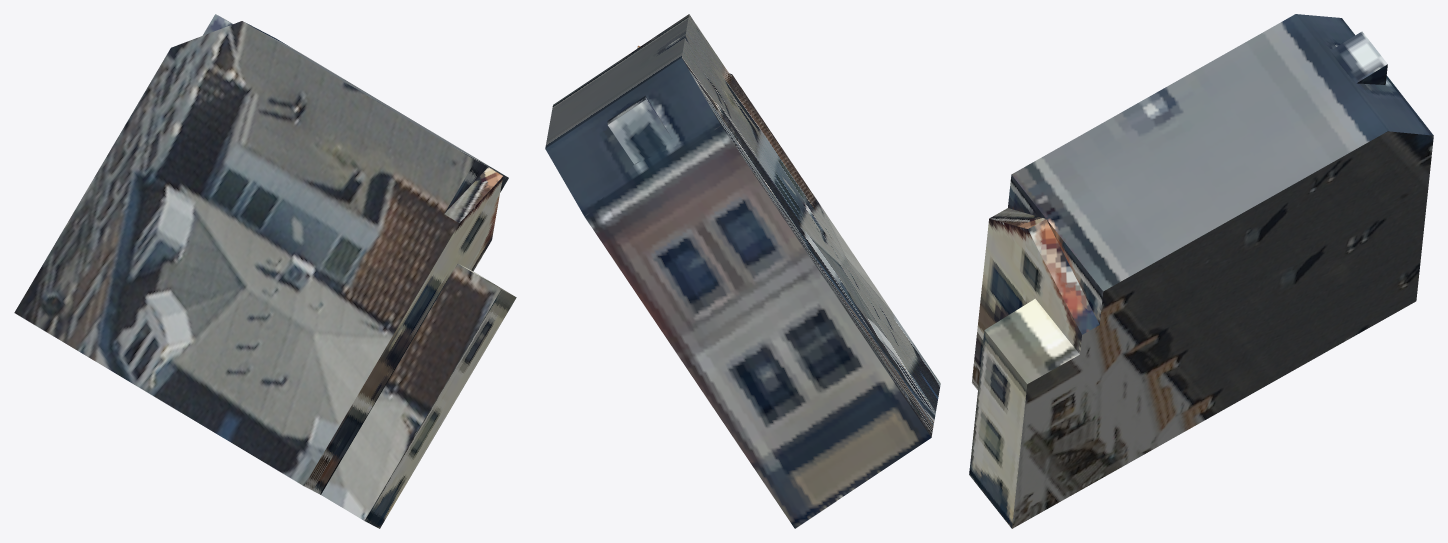
3 renders of one model, left to right at view 1: azimuth 30°, elevation 25°; view 2: azimuth 150°, elevation 25°; view 3: azimuth 270°, elevation 25°, orthographic. The views are drawn at different scales.
Visible parts, largest first — view 1: BAG_0599100000650086 (×3); view 2: BAG_0599100000650086 (×5); view 3: BAG_0599100000650086 (×5).
Part boxes in pixels (box(x1,y1,x2,y2)): BAG_0599100000650086 (×3): box(14, 14, 516, 528); BAG_0599100000650086 (×5): box(545, 14, 940, 528); BAG_0599100000650086 (×5): box(969, 14, 1433, 528).
Bounding box in the file's own units: 14.47 × 14.63 × 12.22.
1 material, 1 textured.
